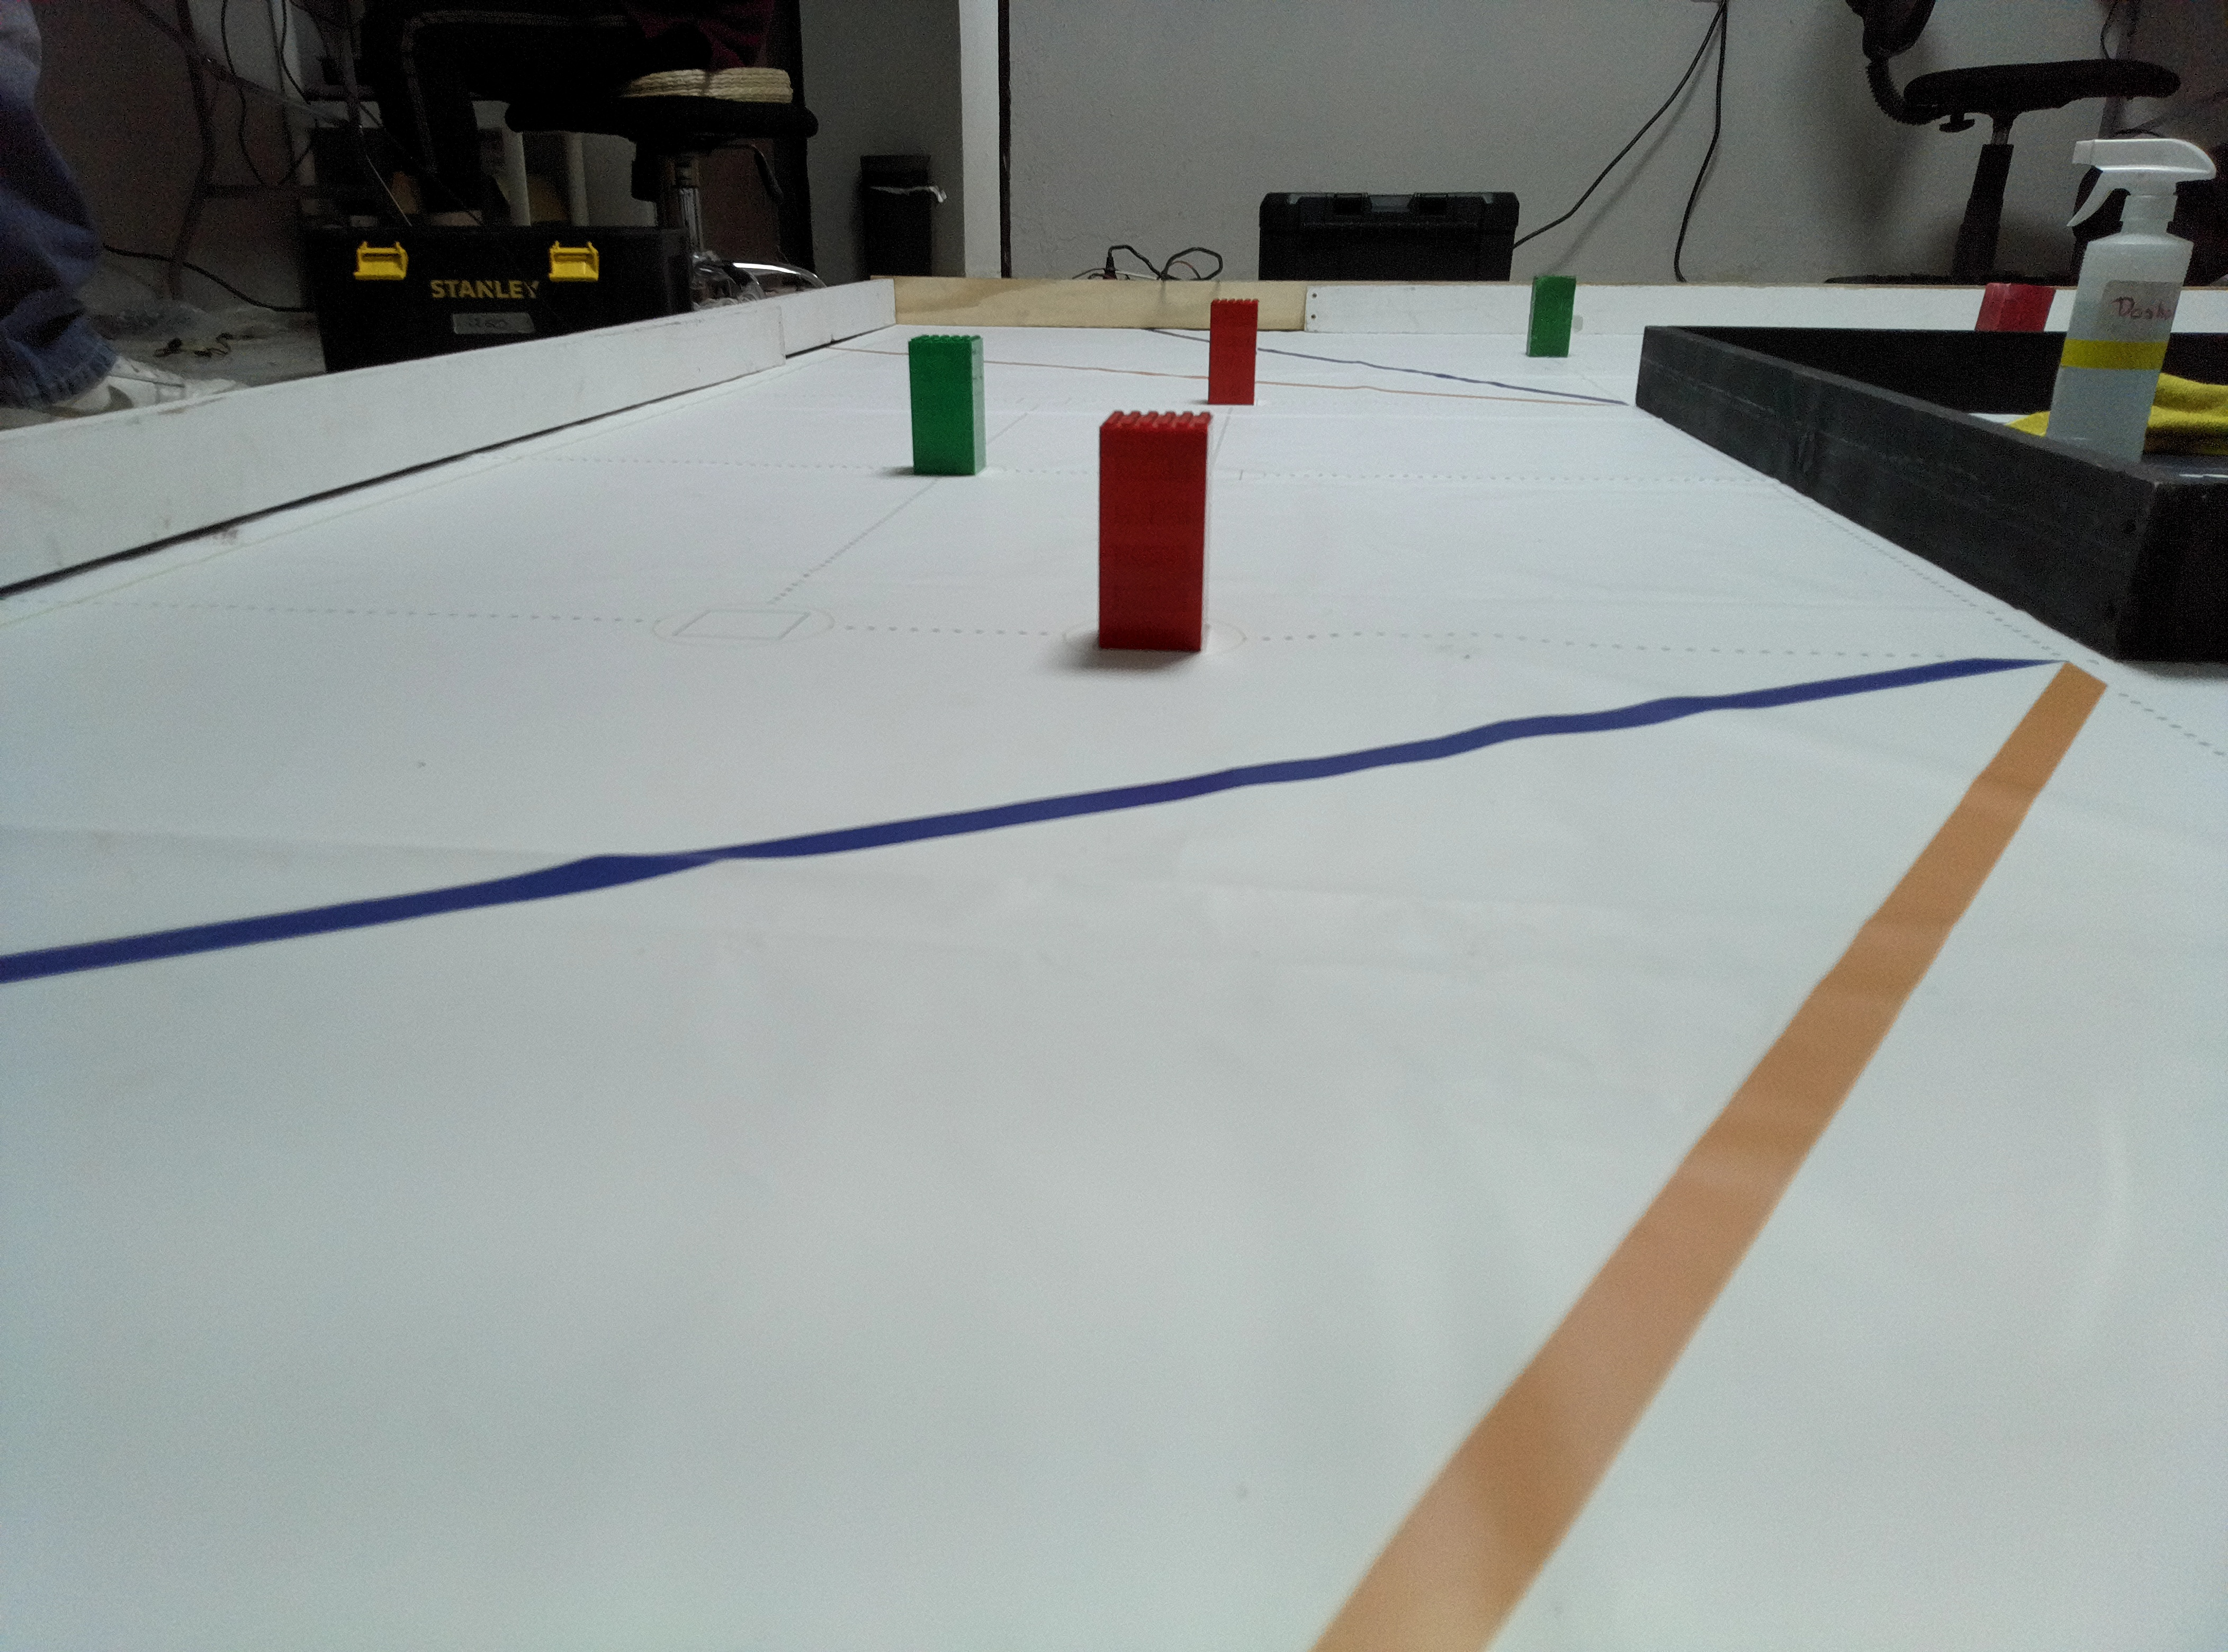greenbox: (906, 331, 991, 481), (1525, 272, 1577, 359)
redbox: (1097, 408, 1216, 654), (1206, 295, 1260, 408), (1971, 279, 2058, 337)
